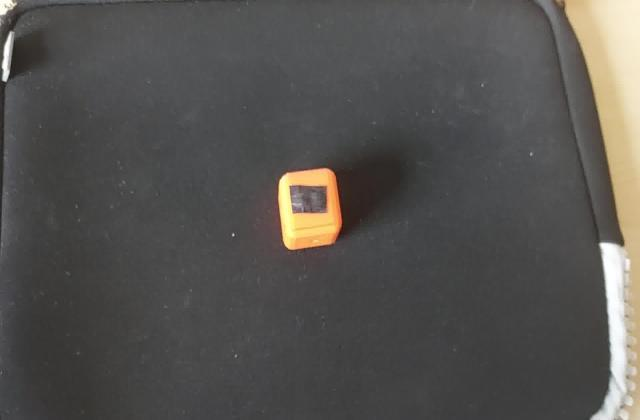black: (287, 180, 332, 220)
sticker: (275, 164, 344, 253)
